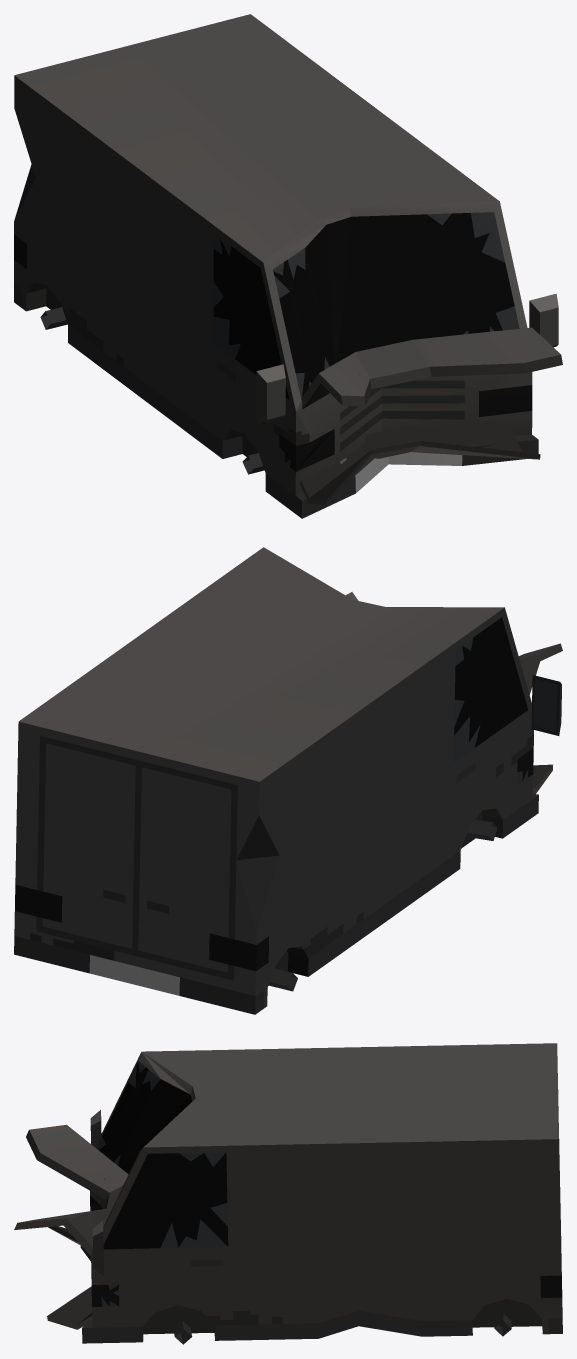
Rendered from SA_Prop_BurntBlack_Van_01.glb.
3 views of the same model, one above another, from view 1: azimuth 30°, elevation 25°; view 2: azimuth 150°, elevation 25°; view 3: azimuth 270°, elevation 25° (orthographic). The views are drawn at different scales.
Visible parts, largest first — view 1: SA_Prop_BurntBlack_Van_01; view 2: SA_Prop_BurntBlack_Van_01; view 3: SA_Prop_BurntBlack_Van_01.
Boxes of the visible parts, bbox=[...] form: SA_Prop_BurntBlack_Van_01: bbox=[14, 14, 562, 518]; SA_Prop_BurntBlack_Van_01: bbox=[14, 547, 562, 1014]; SA_Prop_BurntBlack_Van_01: bbox=[14, 1043, 562, 1344].
Bounding box in the file's own units: 1.45 × 1.1 × 2.69.
1 material, 1 textured.
